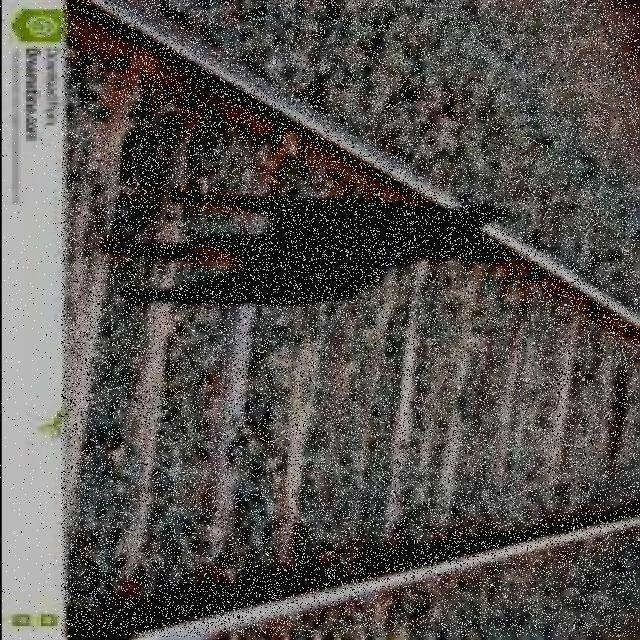rail: (62, 2, 640, 638)
